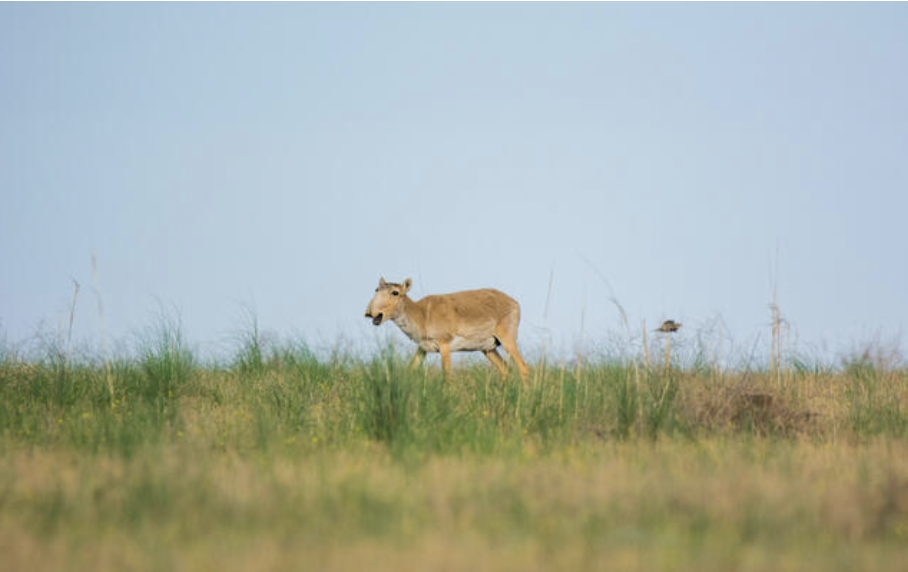saiga: (358, 278, 534, 389)
